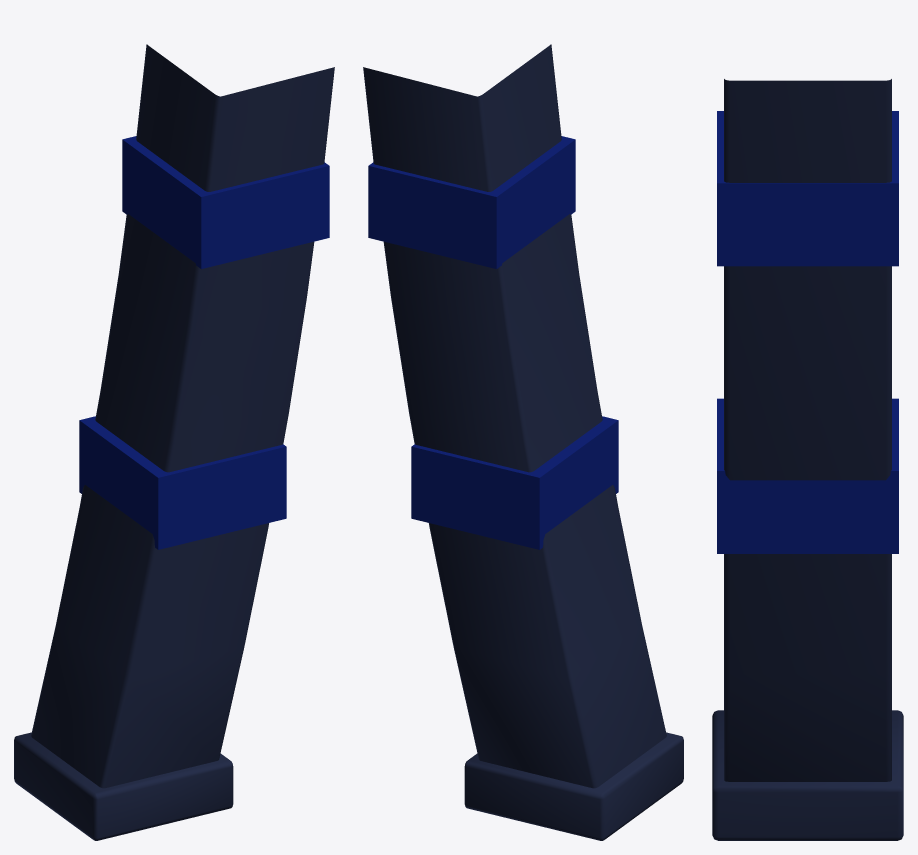
File: cargador_chicharra.glb
The picture shows the model from 3 angles, left to right: view 1: azimuth 30°, elevation 25°; view 2: azimuth 150°, elevation 25°; view 3: azimuth 270°, elevation 25°; orthographic projection. The views are drawn at different scales.
Parts seen in each view (by area): view 1: cargador_chicharra; view 2: cargador_chicharra; view 3: cargador_chicharra.
Boxes of the visible parts, left/top/right/bottom form: cargador_chicharra: left=14, top=44, right=334, bottom=840; cargador_chicharra: left=363, top=44, right=683, bottom=840; cargador_chicharra: left=712, top=79, right=903, bottom=840.
Size of the model in its own units: 0.0579 by 0.1603 by 0.0338.
